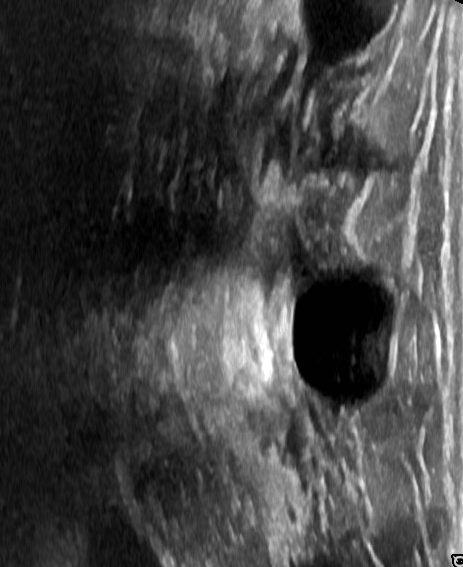Benign: (288, 270, 398, 403), (290, 0, 398, 63)
